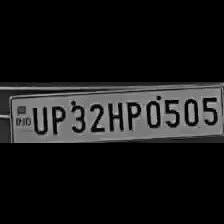0: (142, 96, 162, 128), (181, 93, 199, 126)
2: (87, 99, 105, 133)
3: (66, 100, 86, 134)
5: (200, 93, 220, 126), (160, 96, 180, 128)
H: (104, 98, 124, 132)
P: (46, 101, 66, 135), (122, 97, 142, 131)
U: (28, 102, 48, 134)
